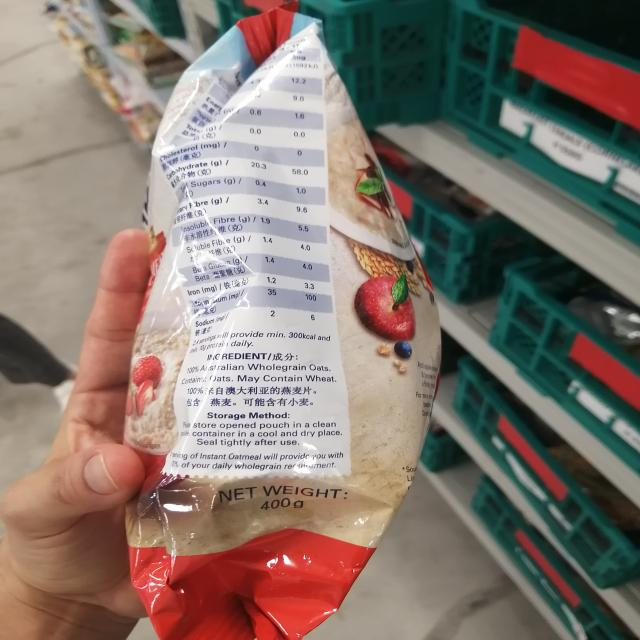object_name: (142, 21, 402, 640)
